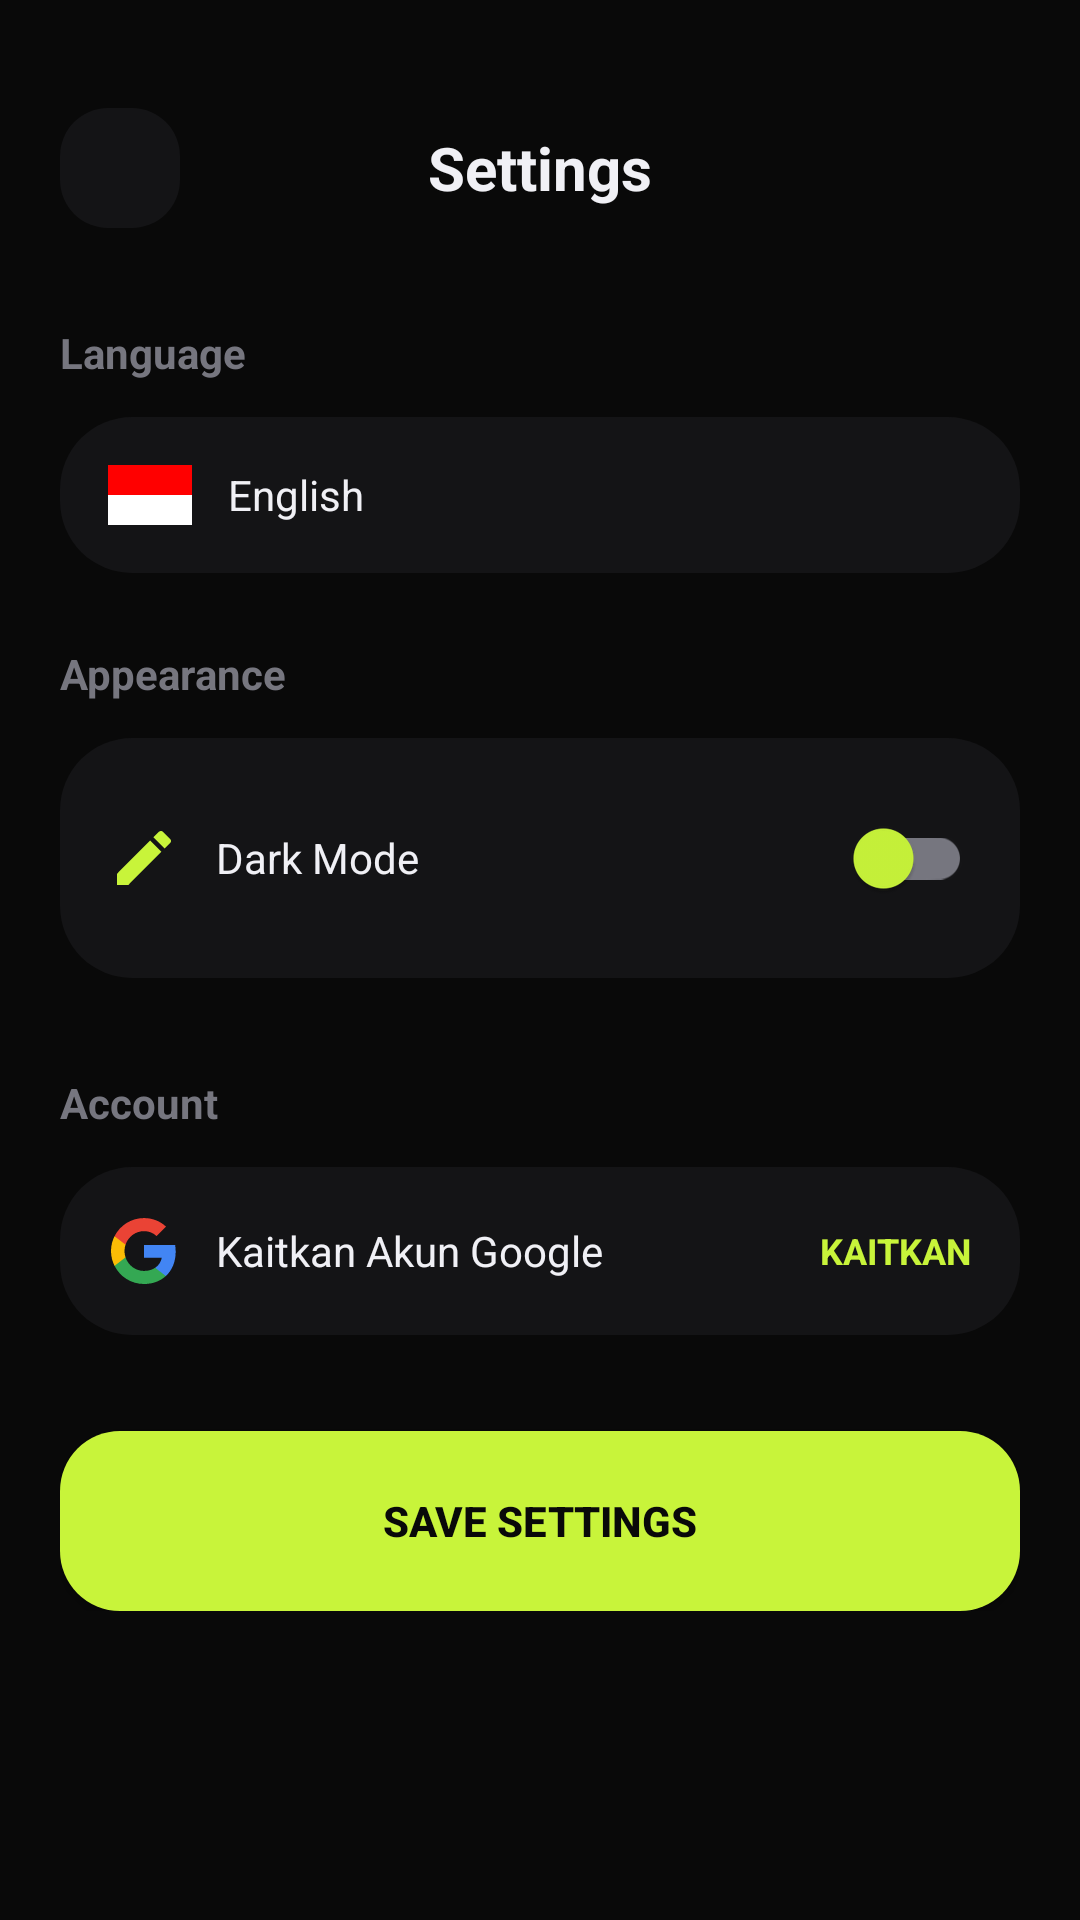

Named icons in this screenshot (1080x1920) and their bounding boxes, (x1, y1, x2, y2):
edit: (117, 831, 171, 885)
flag id: (108, 465, 192, 525)
